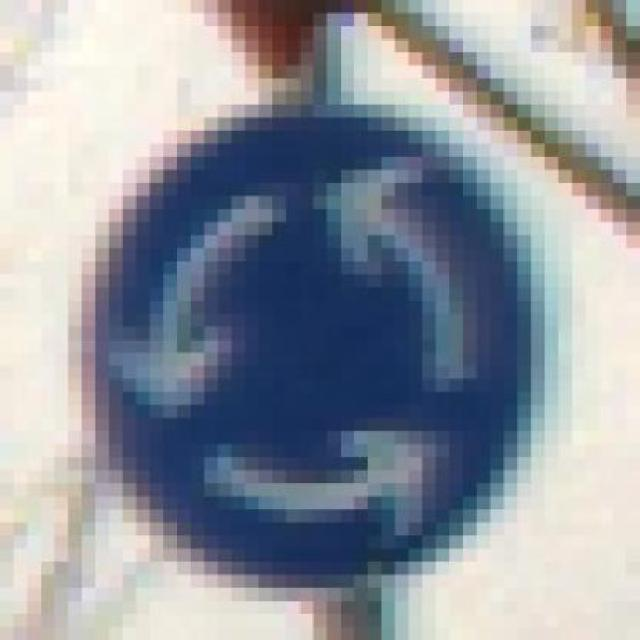Round-About: (41, 105, 572, 588)
